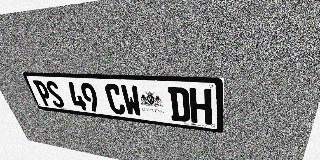4: (65, 82, 88, 111)
9: (79, 82, 102, 112)
C: (103, 84, 127, 115)
D: (167, 87, 190, 122)
H: (189, 88, 212, 125)
P: (32, 80, 55, 107)
S: (44, 81, 66, 108)
W: (120, 84, 143, 117)
